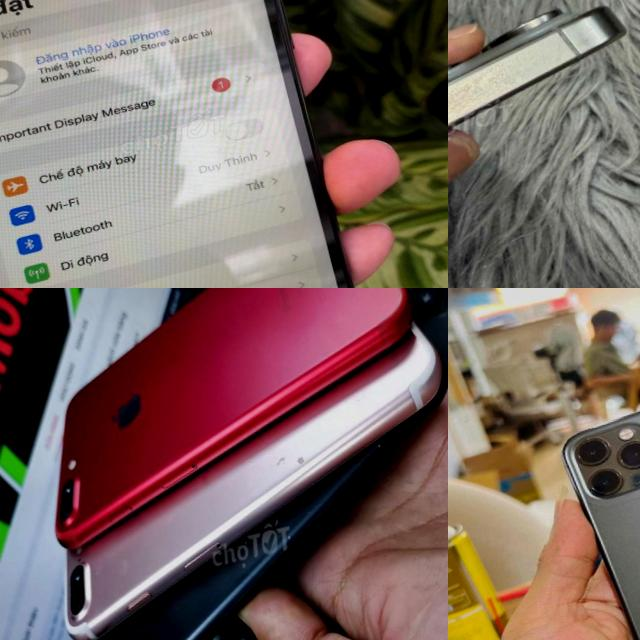gen_11: (0, 0, 402, 288), (553, 348, 640, 640)
gen_15: (448, 0, 640, 266)
gen_7_8: (64, 325, 439, 640)
